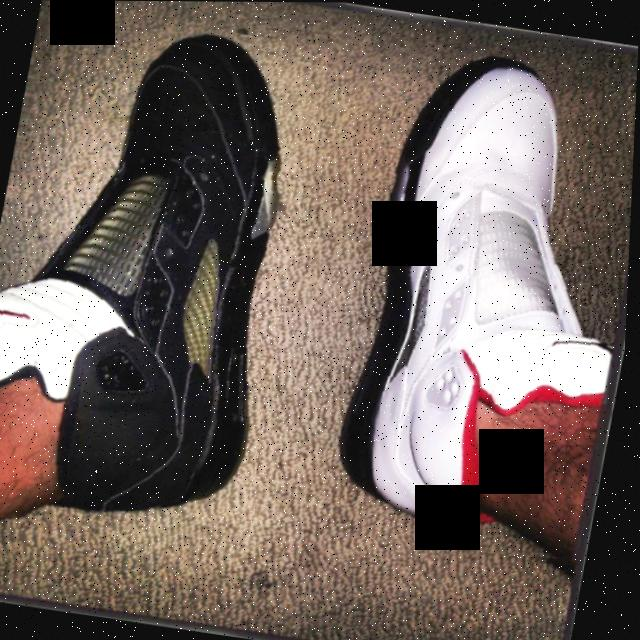shoe: (0, 4, 334, 555), (322, 37, 639, 573)
